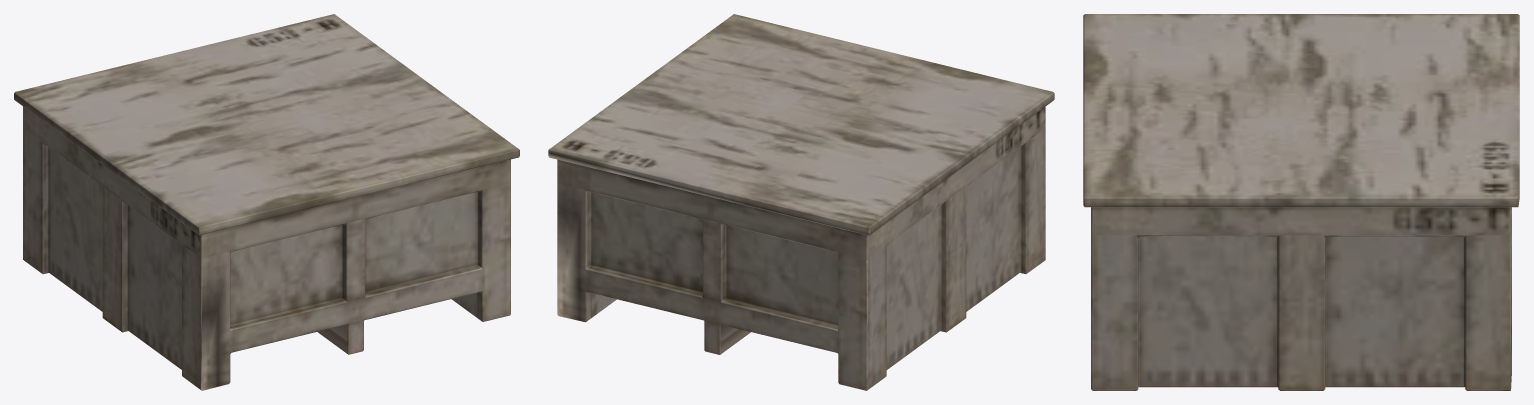
The model's file is wooden_crate_b_red.glb.
3 renders of one model, left to right at view 1: azimuth 30°, elevation 25°; view 2: azimuth 150°, elevation 25°; view 3: azimuth 270°, elevation 25°, orthographic. The views are drawn at different scales.
Parts seen in each view (by area): view 1: wooden_crate_b_red; view 2: wooden_crate_b_red; view 3: wooden_crate_b_red.
Part boxes in pixels (bbox=[...]): wooden_crate_b_red: bbox=[14, 14, 519, 390]; wooden_crate_b_red: bbox=[548, 14, 1054, 390]; wooden_crate_b_red: bbox=[1083, 14, 1519, 390].
Bounding box in the file's own units: 1.04 × 0.5168 × 1.04.
1 material, 1 textured.
